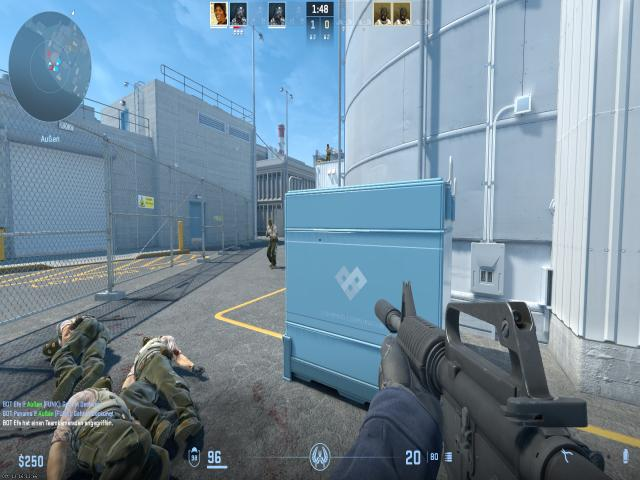Dead: (126, 319, 204, 442), (63, 374, 148, 480), (46, 304, 112, 396)
T: (264, 216, 278, 269), (324, 144, 332, 162)
T-Head: (267, 217, 274, 229), (326, 142, 330, 149)
